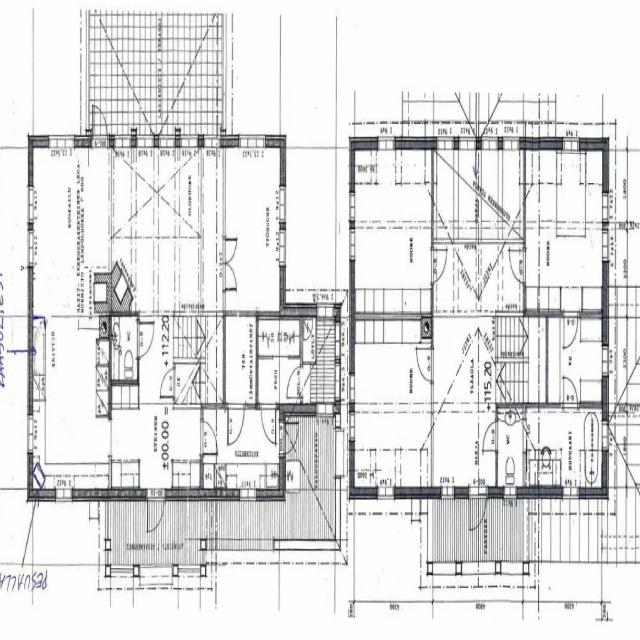door: (147, 488, 164, 537), (469, 488, 486, 537), (92, 102, 108, 147), (200, 421, 219, 455), (228, 404, 244, 444), (137, 322, 155, 357), (415, 348, 433, 382), (431, 249, 449, 283), (279, 422, 299, 452), (285, 366, 303, 398), (508, 251, 526, 283), (261, 404, 276, 441), (564, 372, 578, 408), (564, 311, 578, 346), (482, 422, 498, 451), (160, 368, 175, 396), (223, 238, 238, 265), (223, 264, 238, 290)
